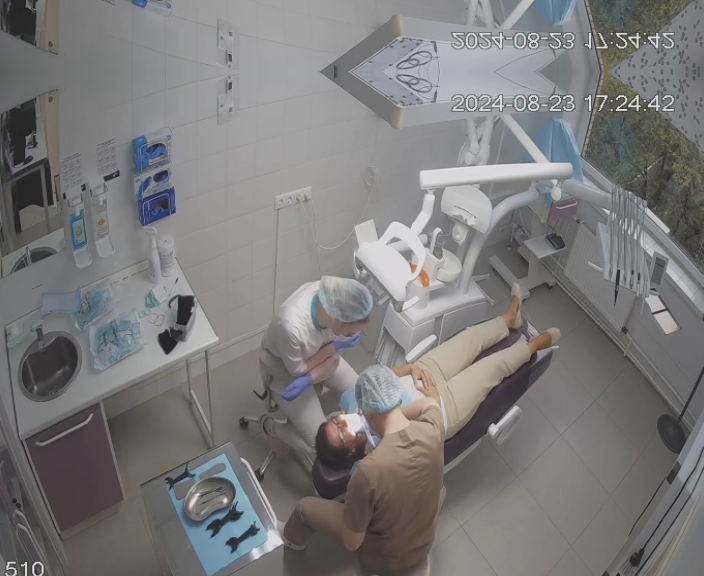Patient: (312, 280, 561, 506)
